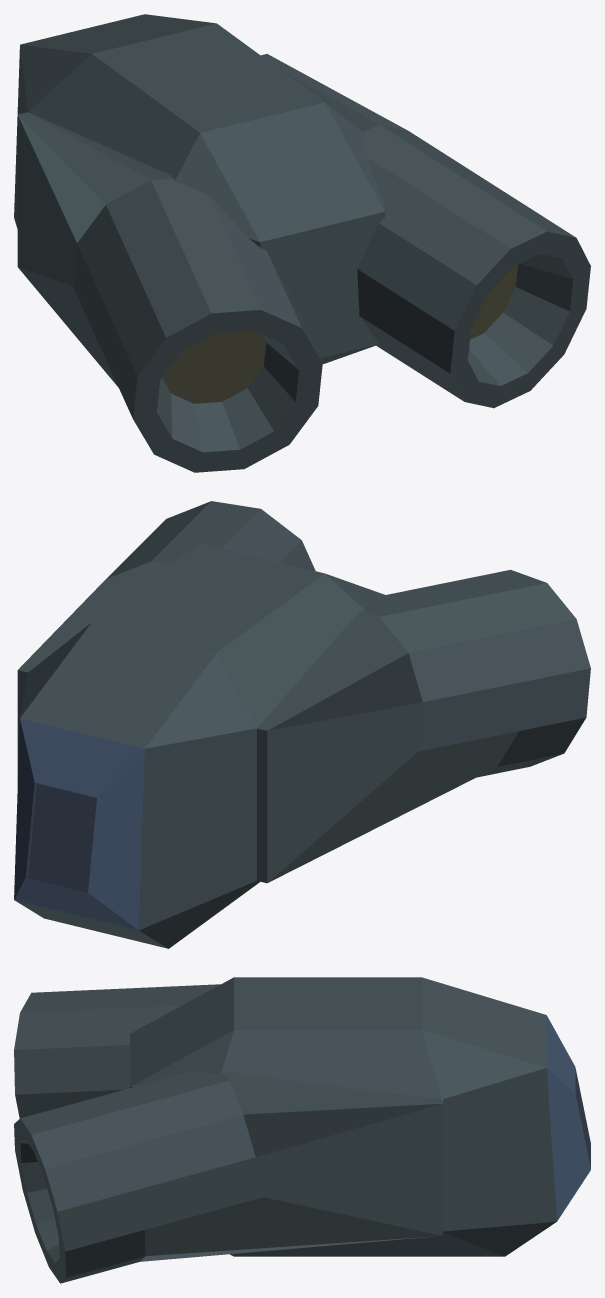
Rendered from gnat.gltf.
3 renders of one model, top to bottom at view 1: azimuth 30°, elevation 25°; view 2: azimuth 150°, elevation 25°; view 3: azimuth 270°, elevation 25°, orthographic. The views are drawn at different scales.
Visible parts, largest first — view 1: cylinder (×2), beveled_cuboid; view 2: beveled_cuboid, cylinder (×2); view 3: cylinder (×2), beveled_cuboid.
Part boxes in pixels (left/top/right/bottom): cylinder (×2): left=17, top=54, right=590, bottom=472; beveled_cuboid: left=14, top=14, right=385, bottom=363; beveled_cuboid: left=14, top=543, right=384, bottom=948; cylinder (×2): left=18, top=501, right=590, bottom=882; cylinder (×2): left=14, top=984, right=442, bottom=1283; beveled_cuboid: left=130, top=977, right=590, bottom=1256.
Bounding box in the file's own units: 2.72 × 1.5 × 3.46.
1 material, 1 textured.
